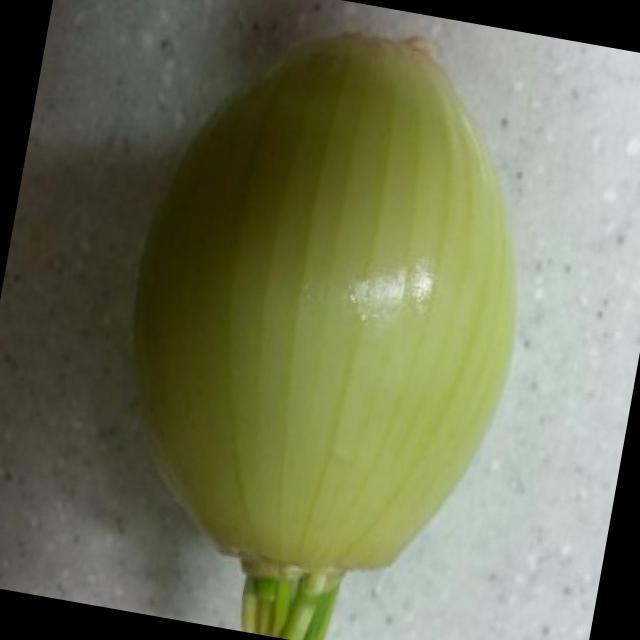Onion: (127, 39, 513, 640)
